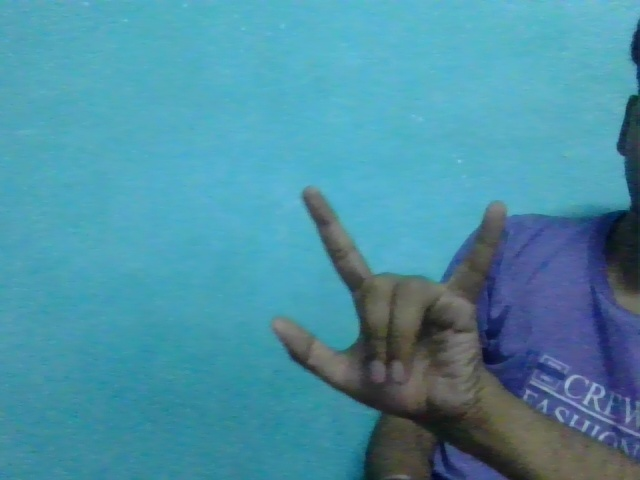iloveyou: (269, 178, 524, 418)
